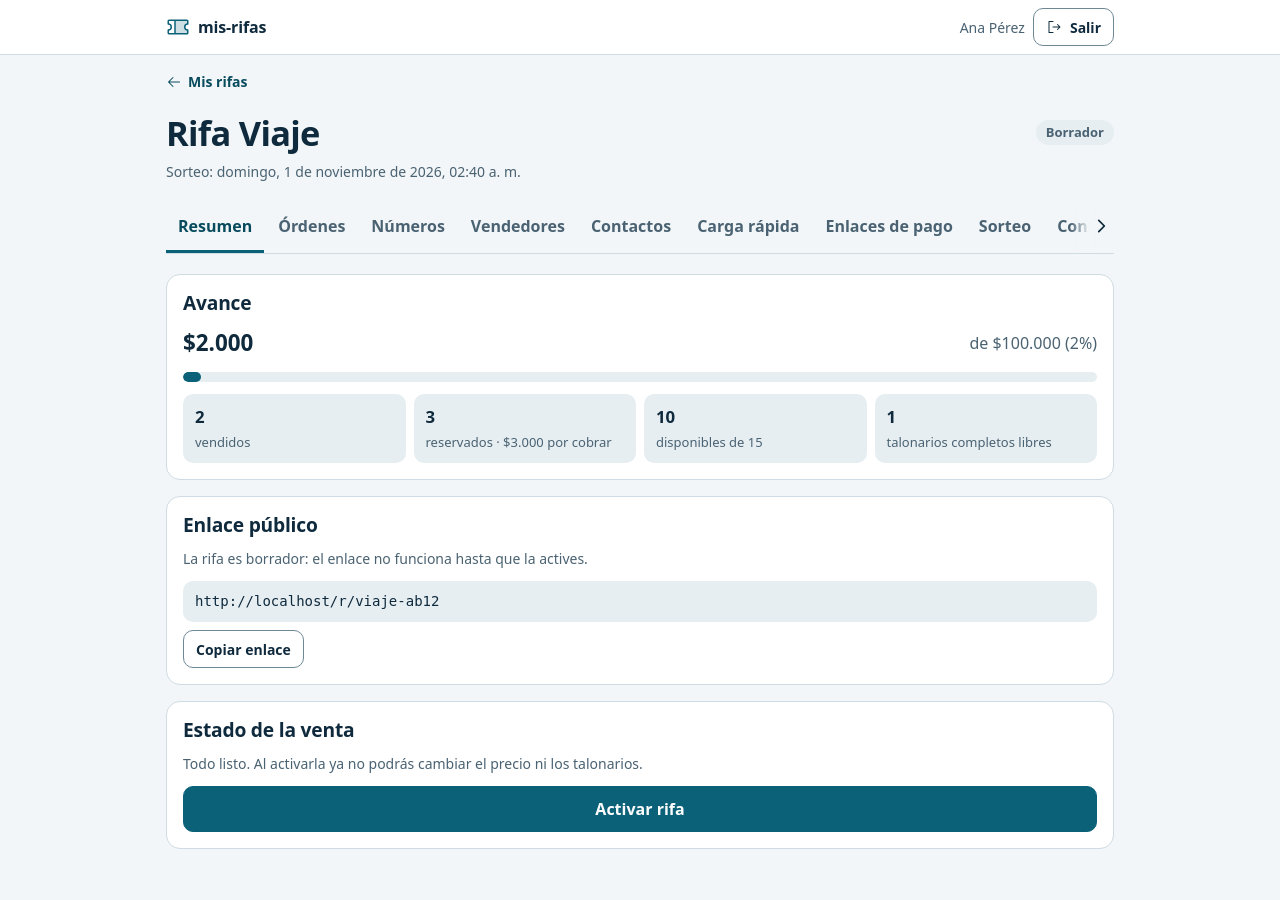
Test: rifa en el panel › el resumen muestra el avance y permite activar un borrador
Check: the text "el enlace no funciona hasta que la actives" is shown, box [183,549,588,568]
Click the button "Activar rifa".
click(640, 809)  # box [183,786,1097,832]
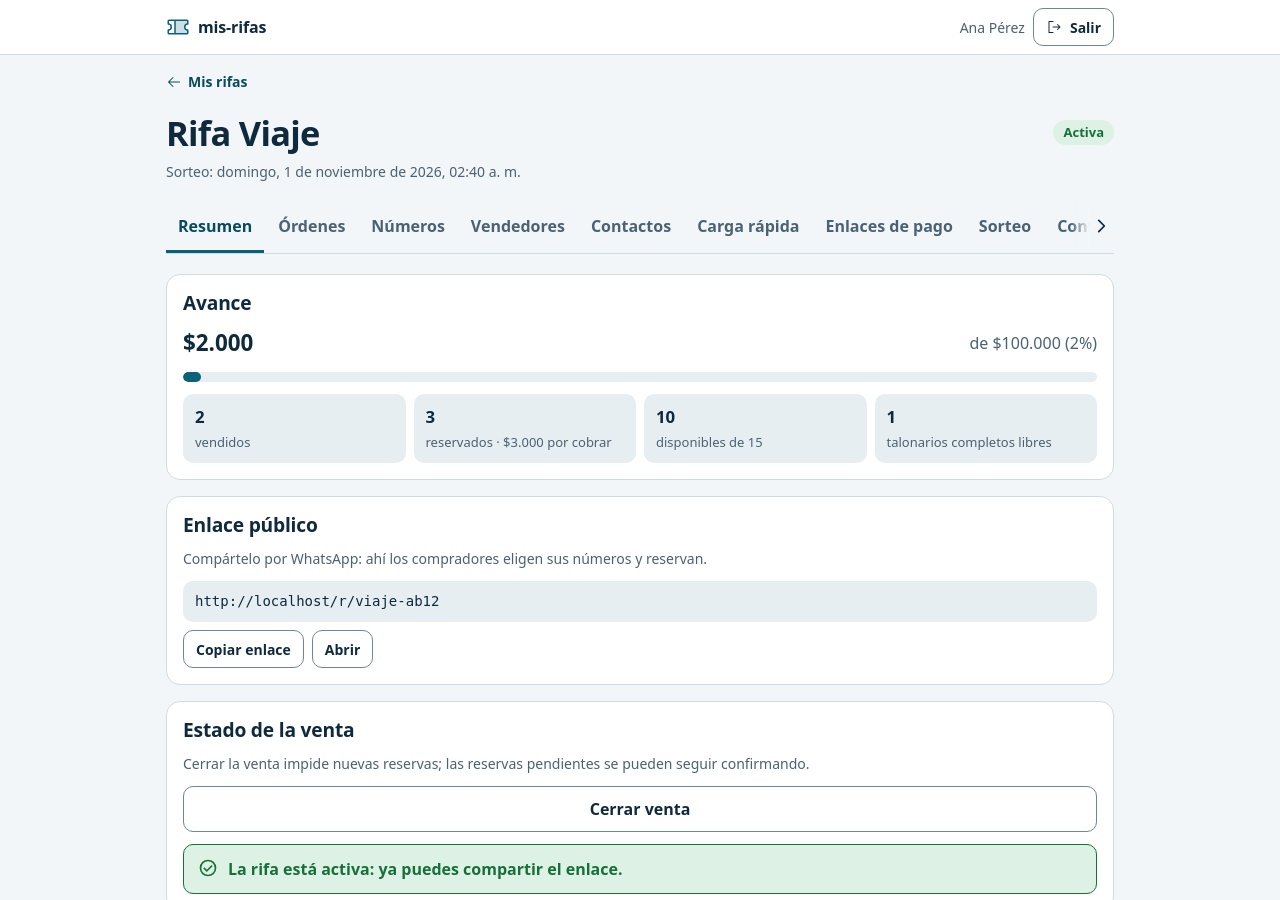
Check: the text "La rifa está activa: ya puedes compartir el enlace." is shown, box [183,844,1097,894]
Check: the button "Cerrar venta" is shown, box [183,786,1097,832]
